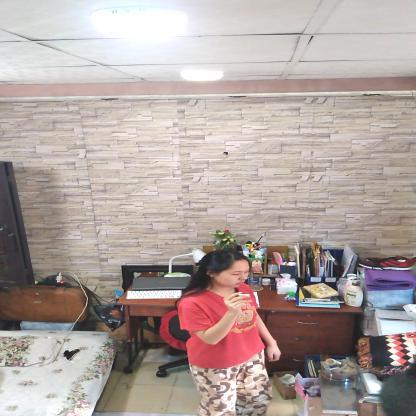cigarette: (237, 294, 252, 297)
person: (176, 249, 282, 416)
